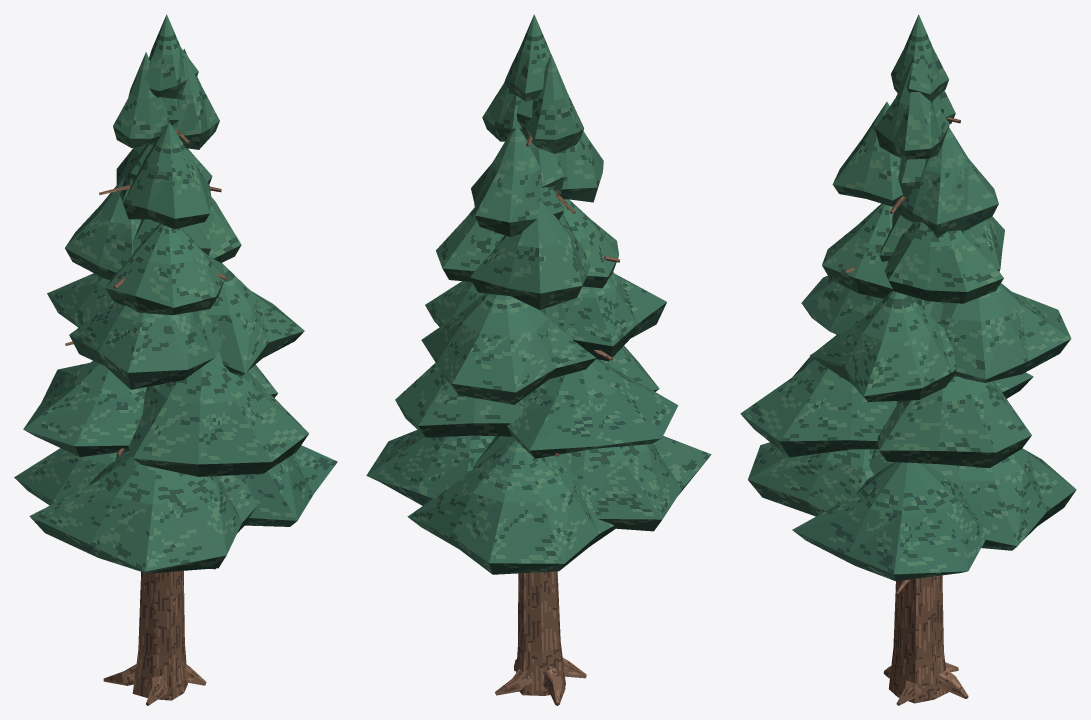
The model's file is t_tree_pine.glb.
3 views of the same model, side by side, from view 1: azimuth 30°, elevation 25°; view 2: azimuth 150°, elevation 25°; view 3: azimuth 270°, elevation 25° (orthographic).
Parts seen in each view (by area): view 1: t_tree_pine_mesh; view 2: t_tree_pine_mesh; view 3: t_tree_pine_mesh.
Boxes of the visible parts, x1,y1,x2,y2 form: t_tree_pine_mesh: [14, 14, 337, 705]; t_tree_pine_mesh: [366, 14, 711, 705]; t_tree_pine_mesh: [740, 14, 1076, 705].
Size of the model in its own units: 2.2 by 4.8 by 2.15.
1 material, 1 textured.
